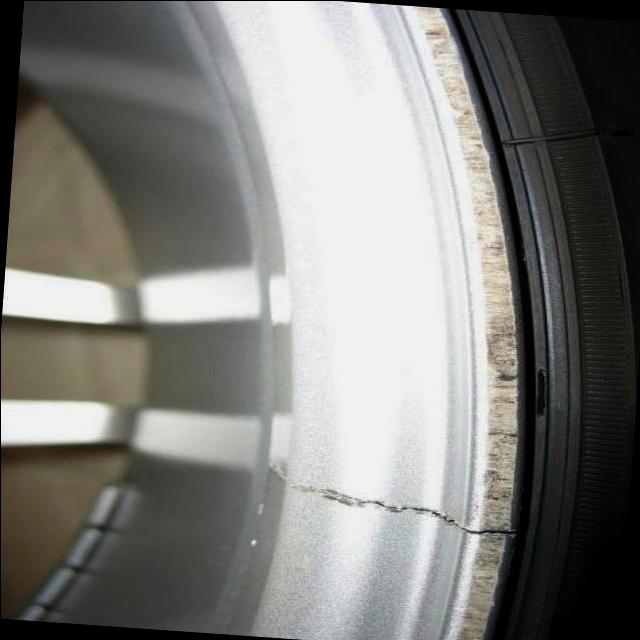defect: (261, 462, 530, 540)
